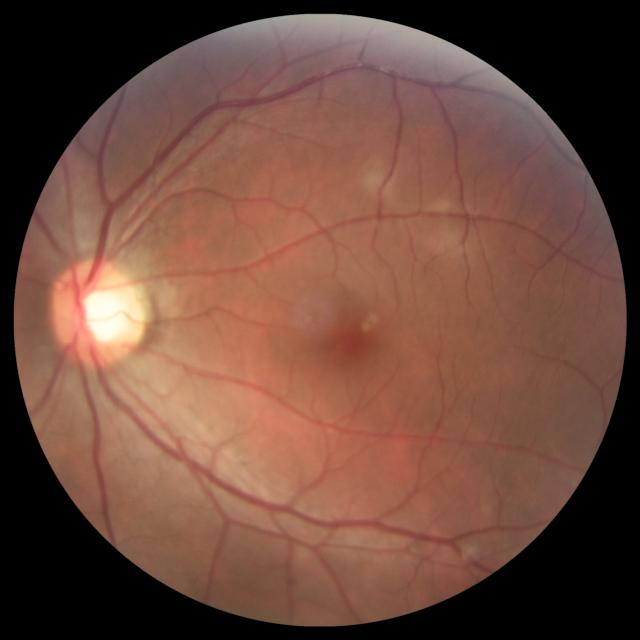OC: (78, 285, 128, 344)
OD: (49, 254, 148, 367)
